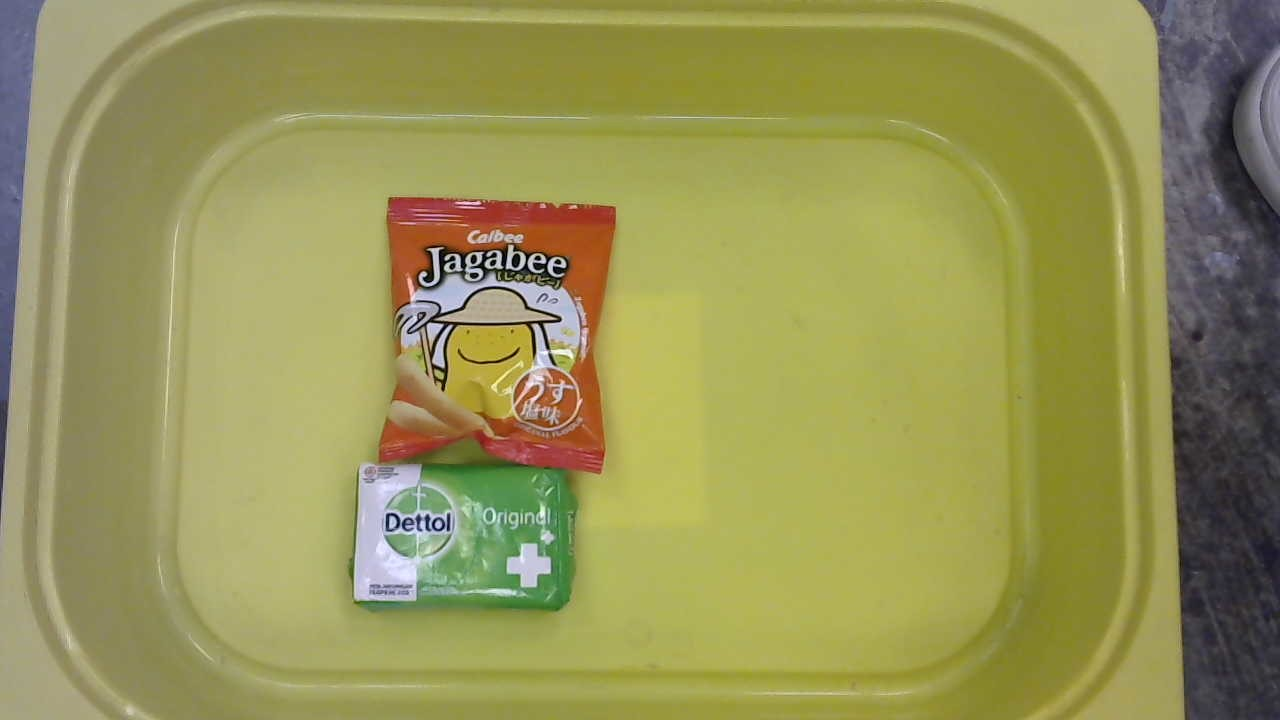Dettol: (351, 461, 577, 611)
JagabeeFarmer: (373, 191, 618, 478)
